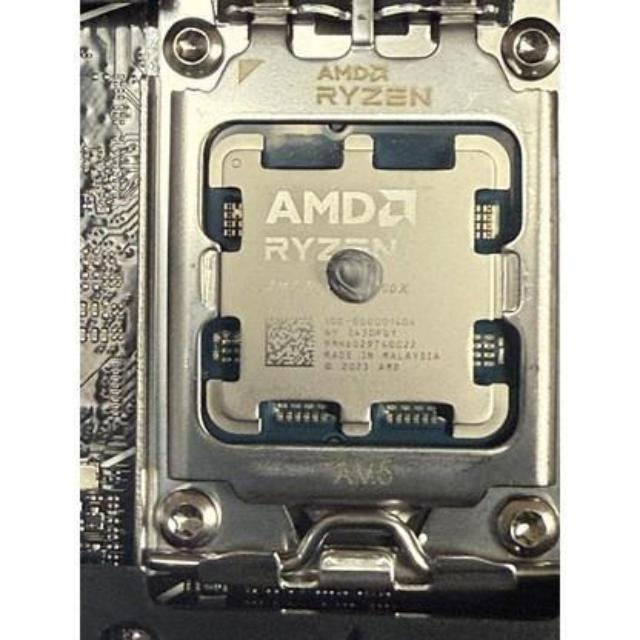CPU: (208, 128, 510, 442)
